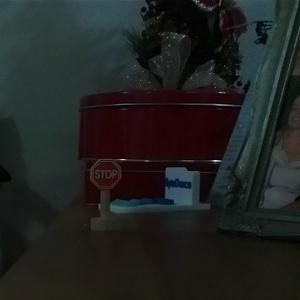stop sign: (87, 156, 125, 234)
